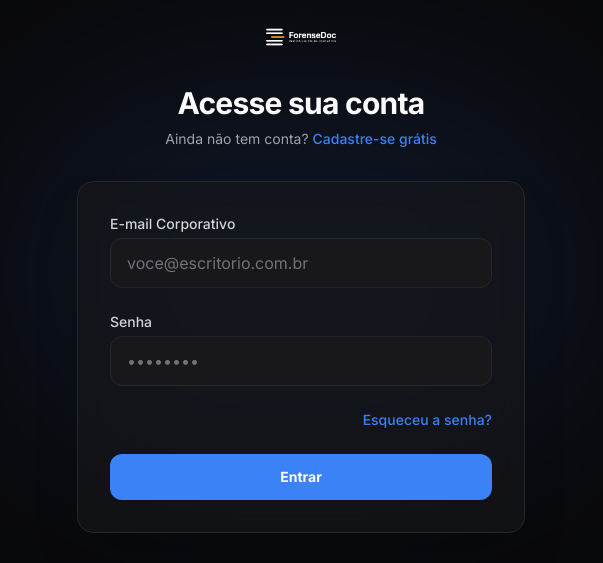
Scenario: Login com segundo fator › desafio vencido devolve o usuário ao passo da senha
Type "admin@forensedoc.test" into the field with placeholder "voce@escritorio.com.br" at (301, 263), box [110,238,492,288]
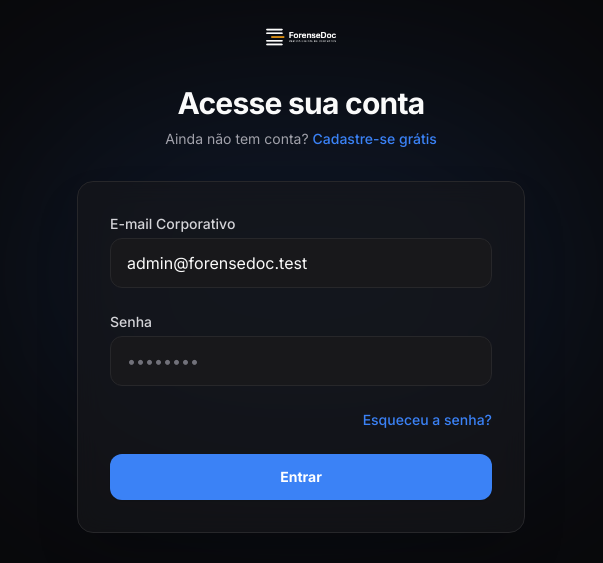
Type "senha-muito-boa-123" into the password field with placeholder "••••••••" at (301, 361), box [110,336,492,386]
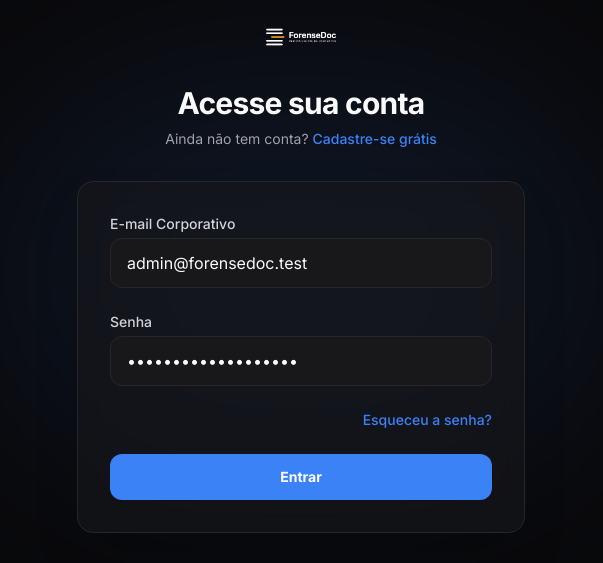
Click the button "Entrar" at (301, 477), box [110,454,492,500]
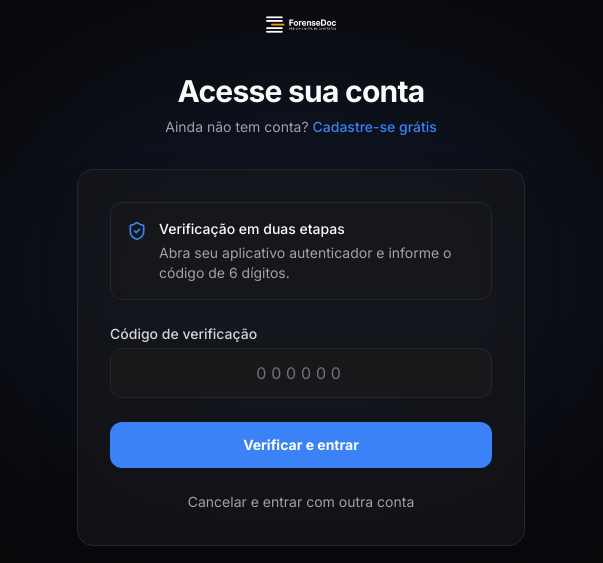
Type "123456" into the field labelled "Código de verificação" at (301, 372), box [110,348,492,398]
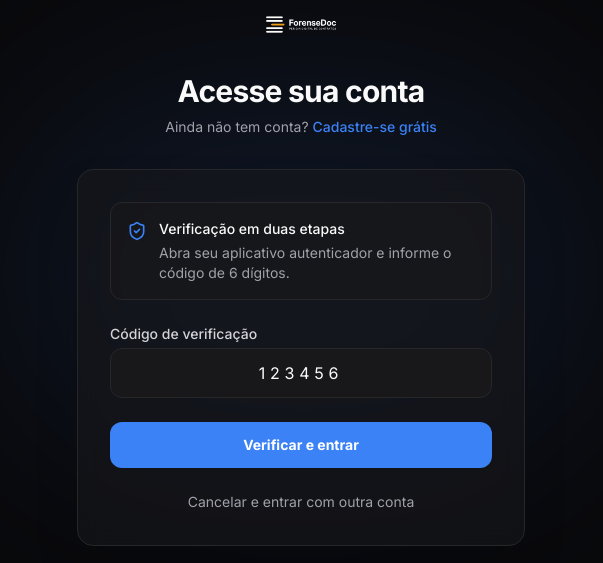
Click the button "Verificar e entrar" at (301, 444), box [110,422,492,468]
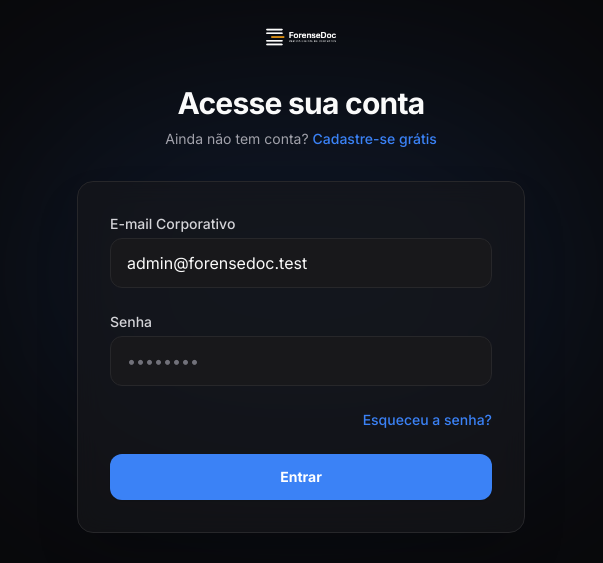
Result: the field with placeholder "voce@escritorio.com.br" is shown at [110,238,492,288]
Result: the label labelled "Código de verificação" is gone
